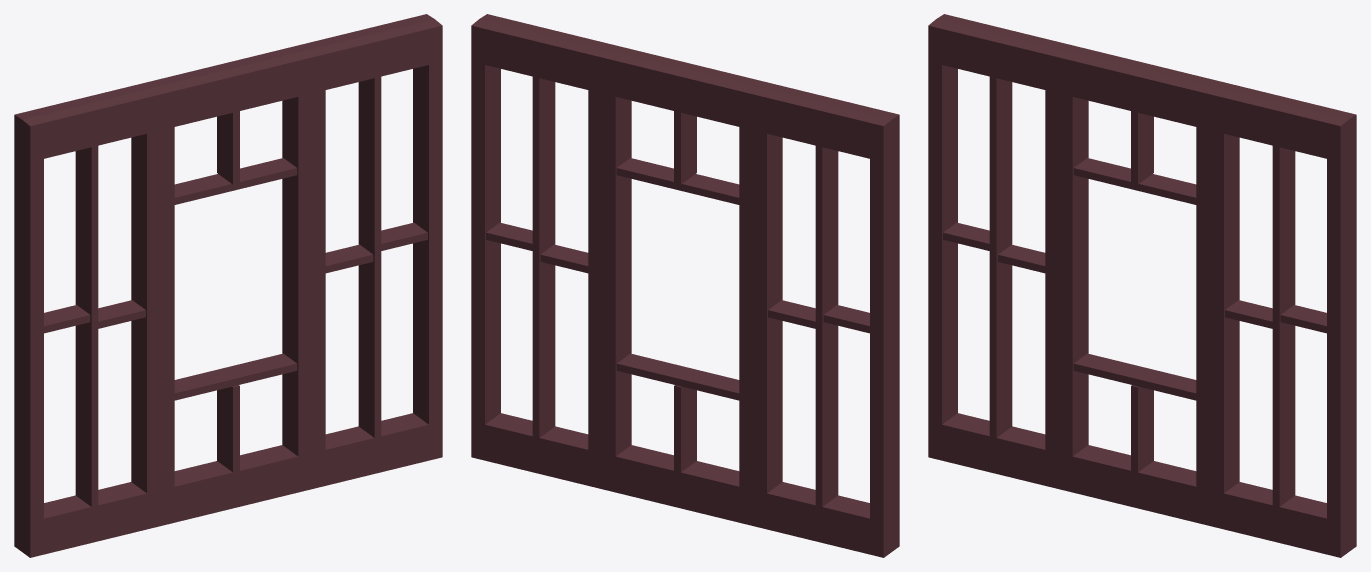
File: house-wall-window-construction.fbx
3 renders of one model, left to right at view 1: azimuth 30°, elevation 25°; view 2: azimuth 150°, elevation 25°; view 3: azimuth 330°, elevation 25°, orthographic.
Parts seen in each view (by area): view 1: house-wall-window-construction-3x3m; view 2: house-wall-window-construction-3x3m; view 3: house-wall-window-construction-3x3m.
Part boxes in pixels (box(x1,y1,x2,y2)): house-wall-window-construction-3x3m: box(14, 14, 442, 557); house-wall-window-construction-3x3m: box(471, 14, 899, 557); house-wall-window-construction-3x3m: box(928, 14, 1356, 557).
Size of the model in its own units: 3 by 3.01 by 0.2.
